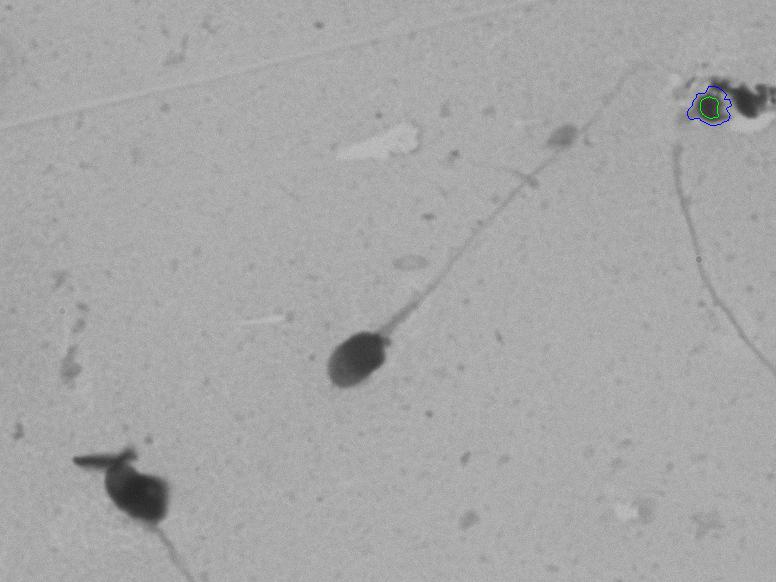Abnormal: (299, 47, 617, 437)
